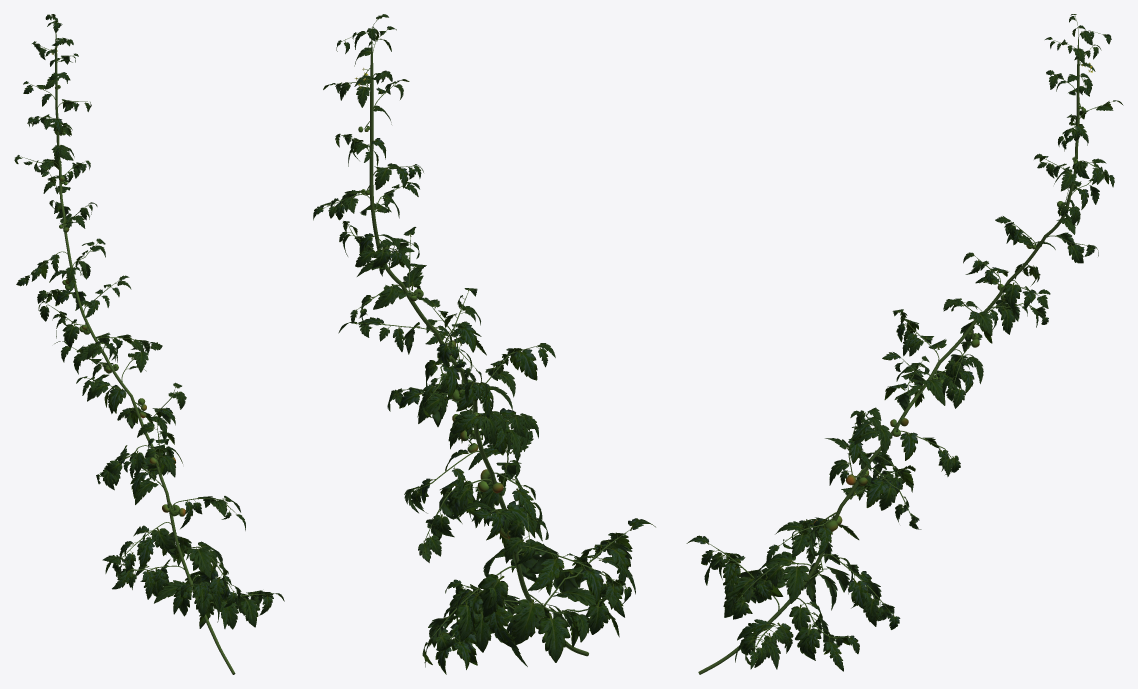
The model's file is tomato_009.glb.
3 views of the same model, side by side, from view 1: azimuth 30°, elevation 25°; view 2: azimuth 150°, elevation 25°; view 3: azimuth 270°, elevation 25° (orthographic). The views are drawn at different scales.
Parts seen in each view (by area): view 1: tomato_009; view 2: tomato_009; view 3: tomato_009.
Part boxes in pixels (x1,y1,x2,y2): tomato_009: (14, 14, 284, 674); tomato_009: (313, 14, 655, 674); tomato_009: (686, 14, 1123, 674).
Bounding box in the file's own units: 0.862 × 3.03 × 1.86.
17 materials, 16 textured.
